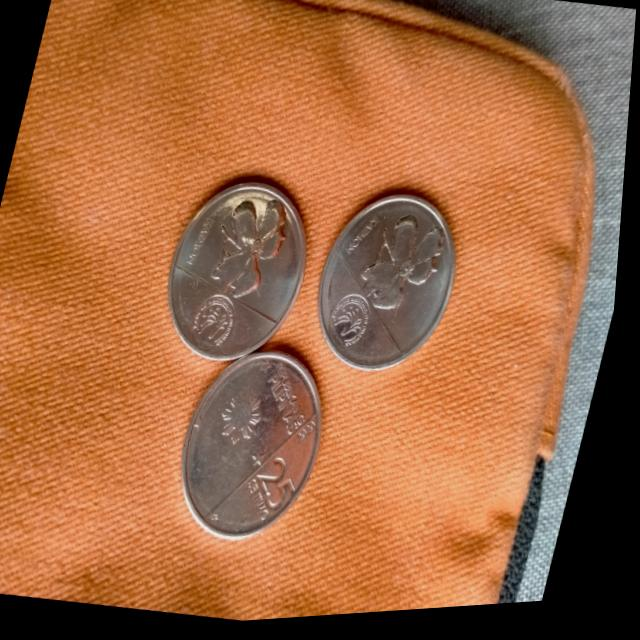25Cent_New_Back: (200, 190, 303, 303), (354, 212, 445, 311)
25Cent_New_Front: (243, 449, 312, 534)
